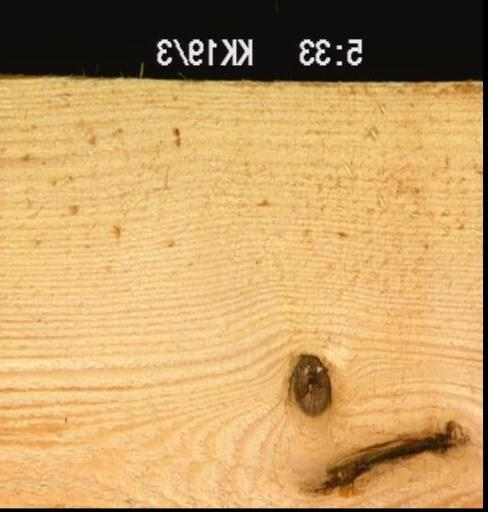dry_knot: (288, 352, 333, 417)
